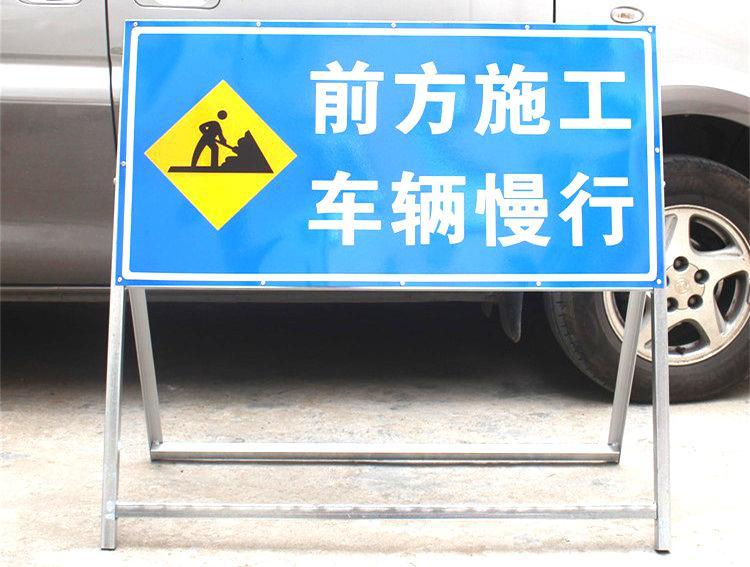sign: (116, 23, 663, 286)
